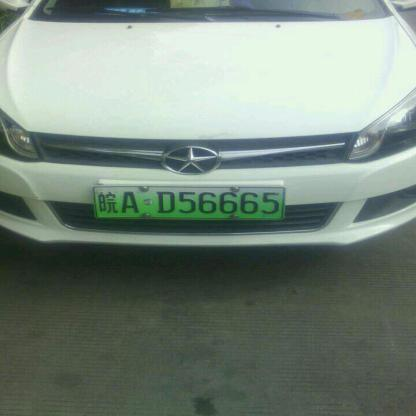lp: (93, 188, 285, 217)
